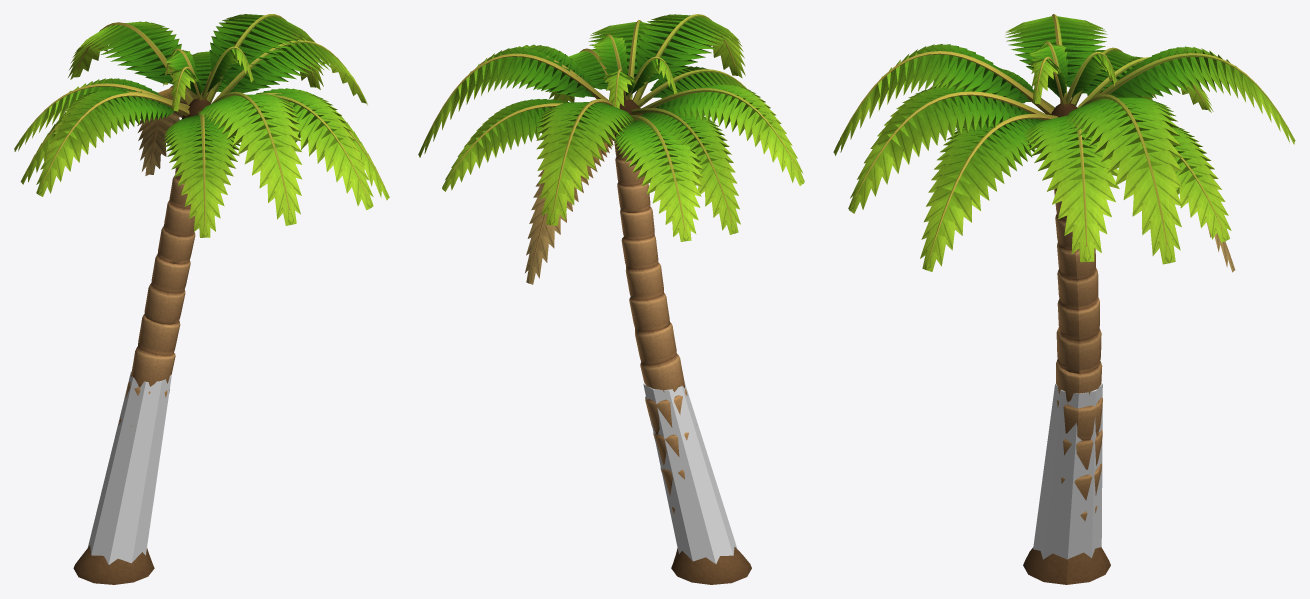
The model's file is IO_Palm_A.glb.
3 renders of one model, left to right at view 1: azimuth 30°, elevation 25°; view 2: azimuth 150°, elevation 25°; view 3: azimuth 270°, elevation 25°, orthographic. The views are drawn at different scales.
Parts seen in each view (by area): view 1: IO_Palm_A_LOD0, IO_Palm_A_COL; view 2: IO_Palm_A_LOD0, IO_Palm_A_COL; view 3: IO_Palm_A_LOD0, IO_Palm_A_COL.
Part boxes in pixels (<box>): IO_Palm_A_LOD0: <box>14,14,389,584</box>; IO_Palm_A_COL: <box>87,371,171,564</box>; IO_Palm_A_LOD0: <box>418,14,804,584</box>; IO_Palm_A_COL: <box>643,382,737,563</box>; IO_Palm_A_LOD0: <box>833,14,1295,584</box>; IO_Palm_A_COL: <box>1033,383,1102,559</box>.
Size of what is drawn, in the model's own units: 5.35 by 7.4 by 5.44.
3 materials, 3 textured.
